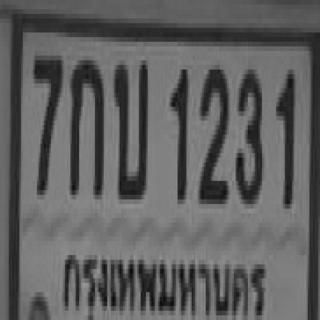A01: (68, 53, 102, 193)
A26: (113, 56, 147, 195)
N01: (274, 65, 294, 204), (169, 62, 186, 197)
N02: (197, 60, 227, 199)
N03: (234, 65, 262, 200)
N07: (32, 49, 62, 188)
P04: (57, 244, 268, 320)
